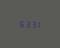one: (33, 20, 37, 28)
six: (18, 19, 22, 27)
three: (28, 19, 32, 28), (23, 19, 27, 27)
